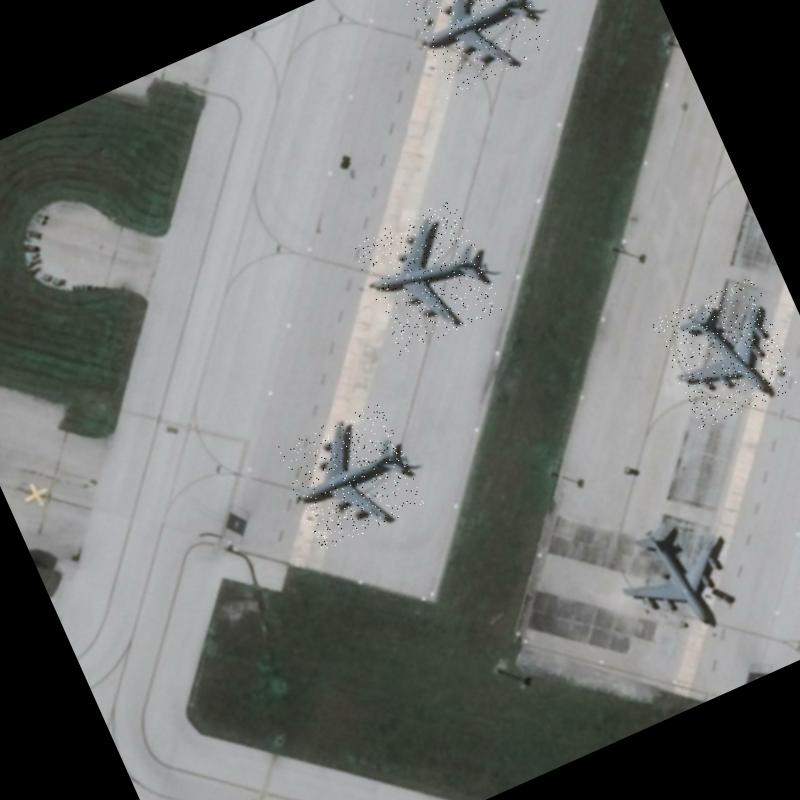A14: (602, 495, 760, 653), (350, 198, 504, 356), (650, 275, 800, 431), (274, 400, 426, 552), (399, 0, 553, 98)
